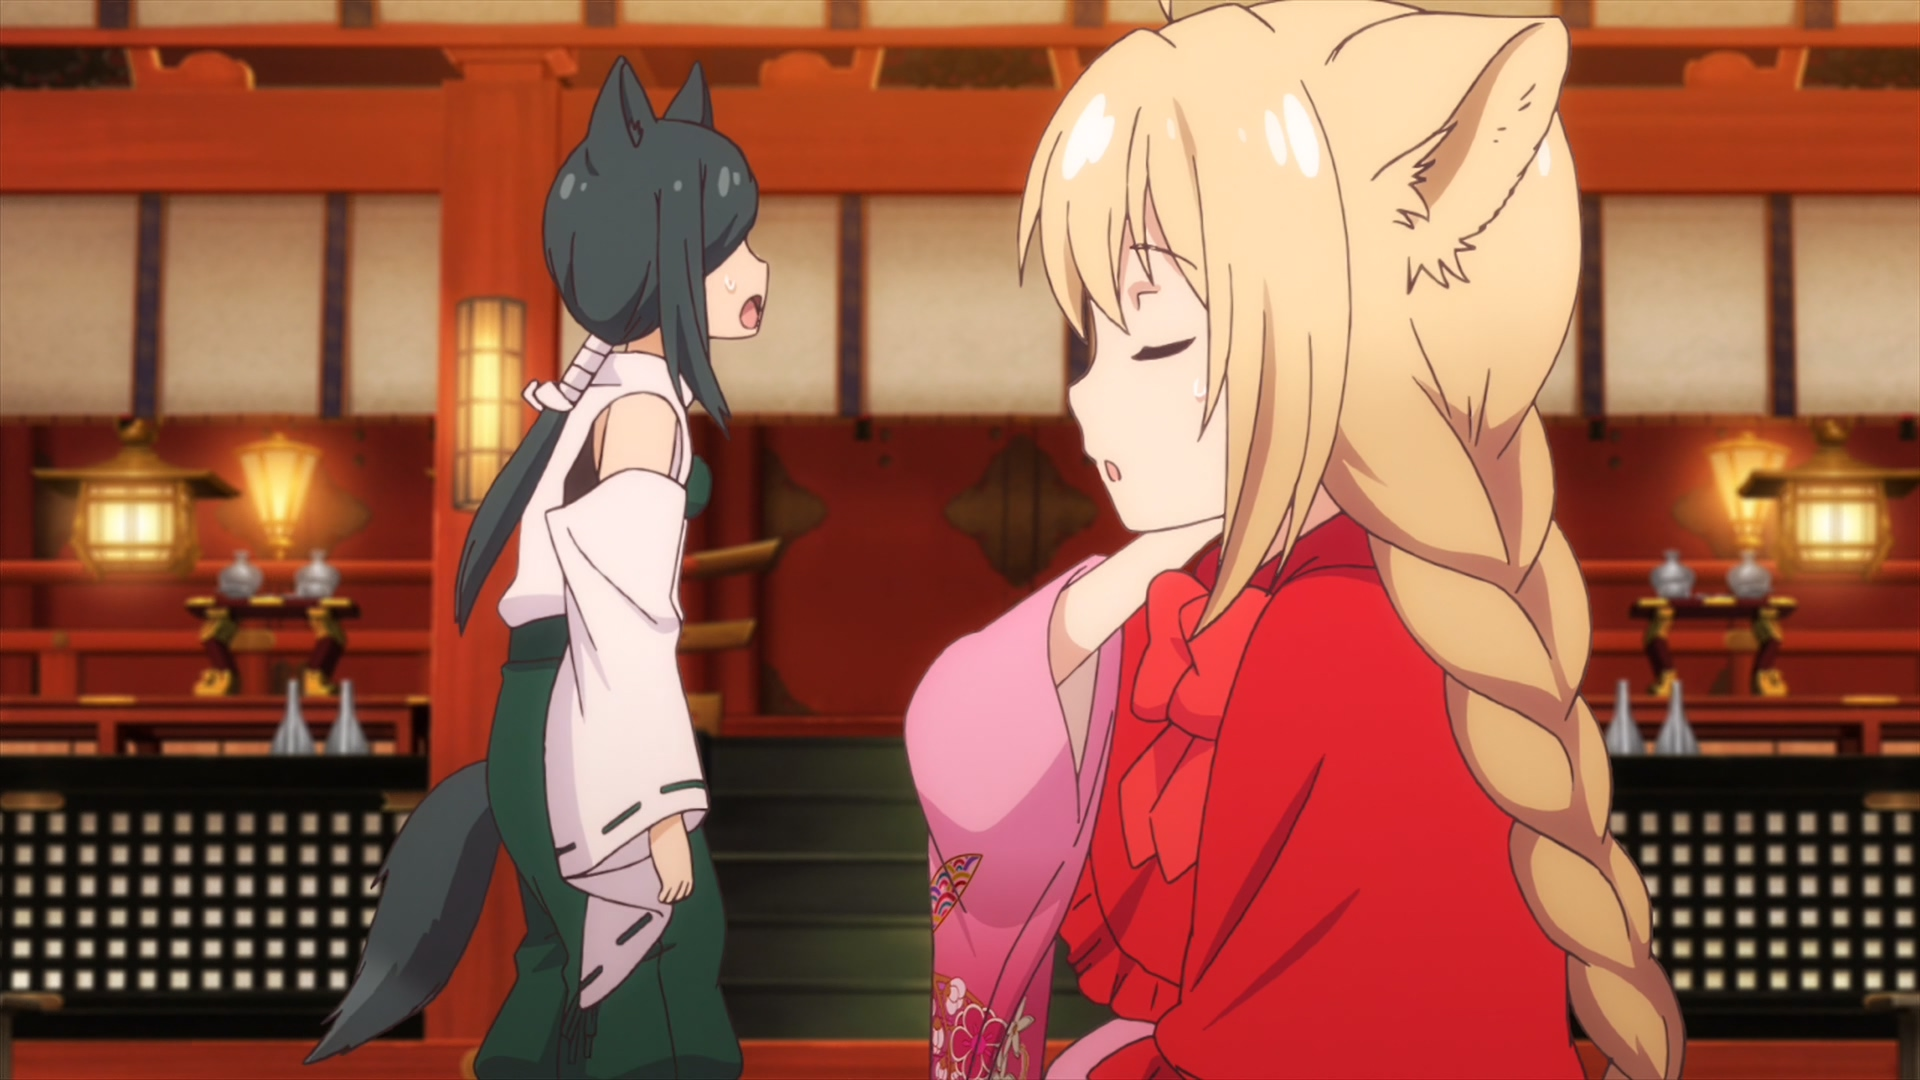其他: (305, 58, 770, 1080)
柚: (905, 1, 1683, 1080)
